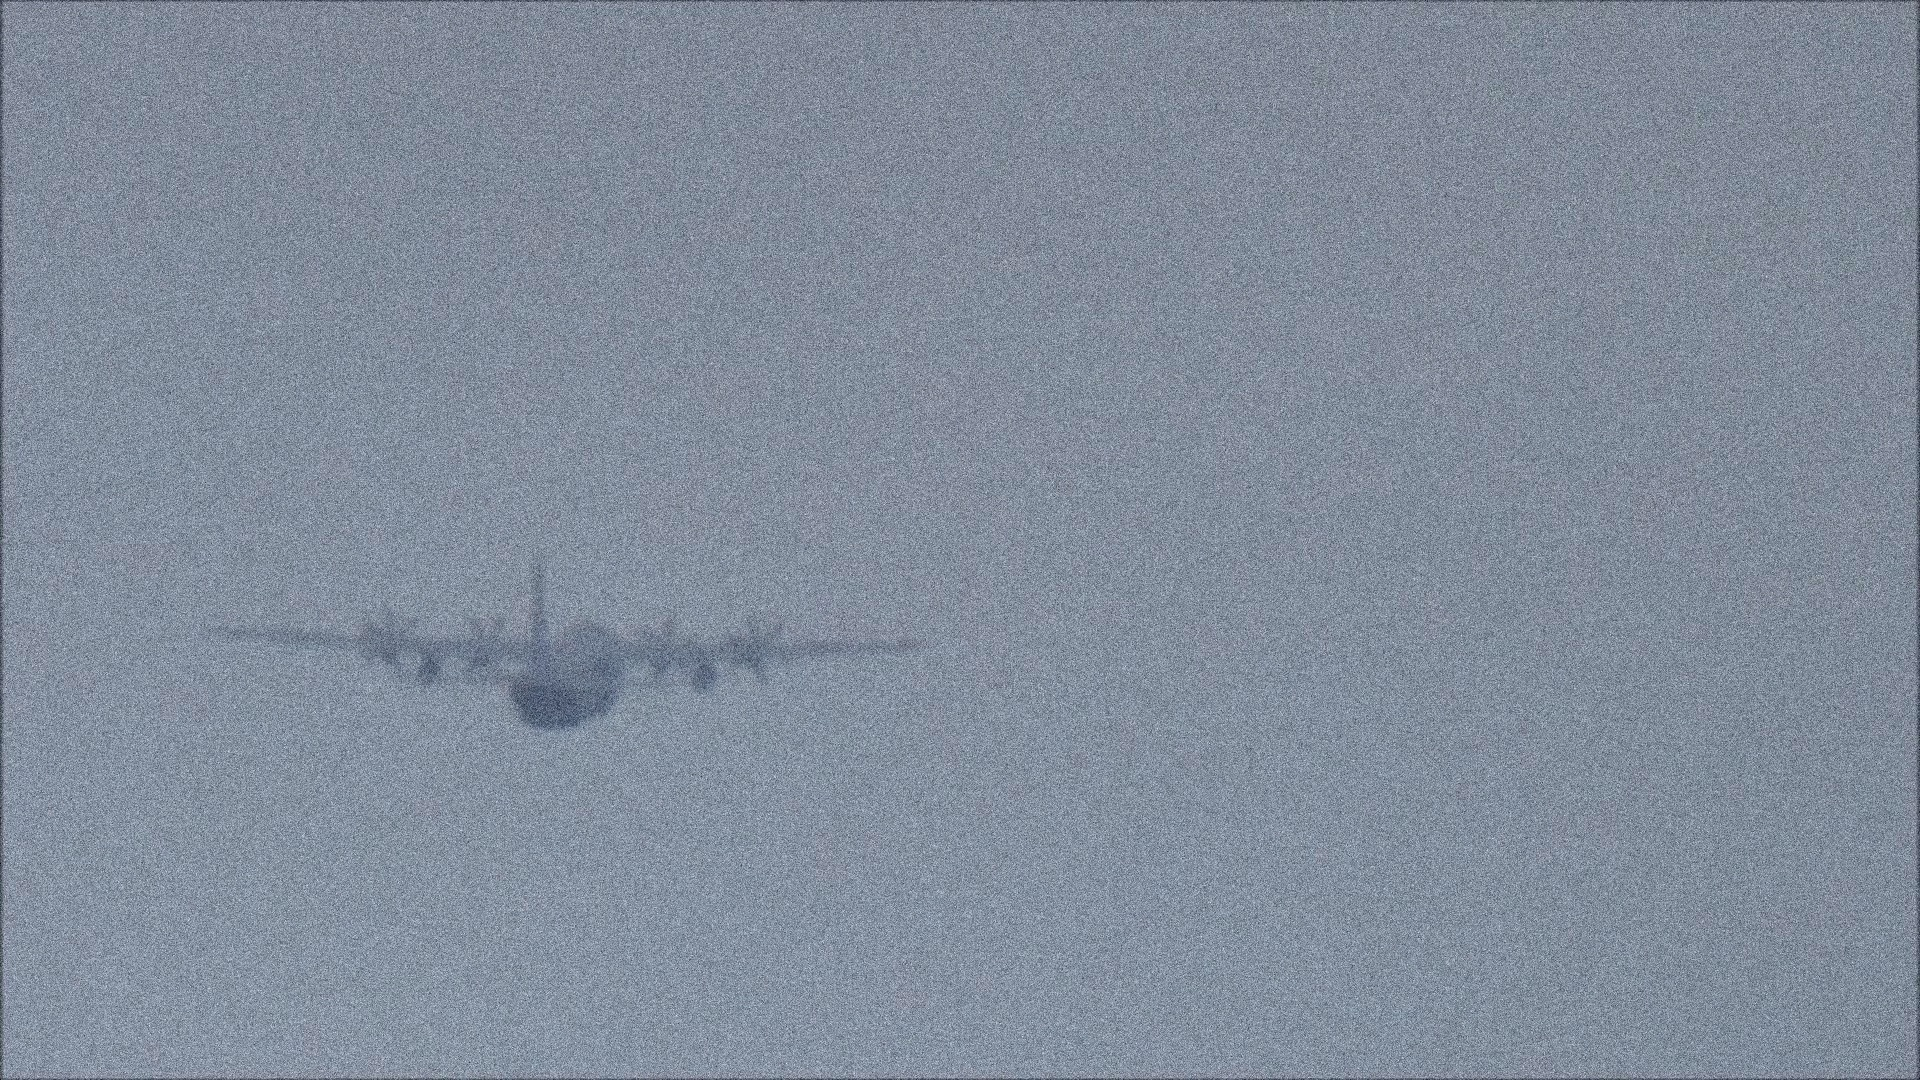Airplane: (222, 560, 924, 727)
